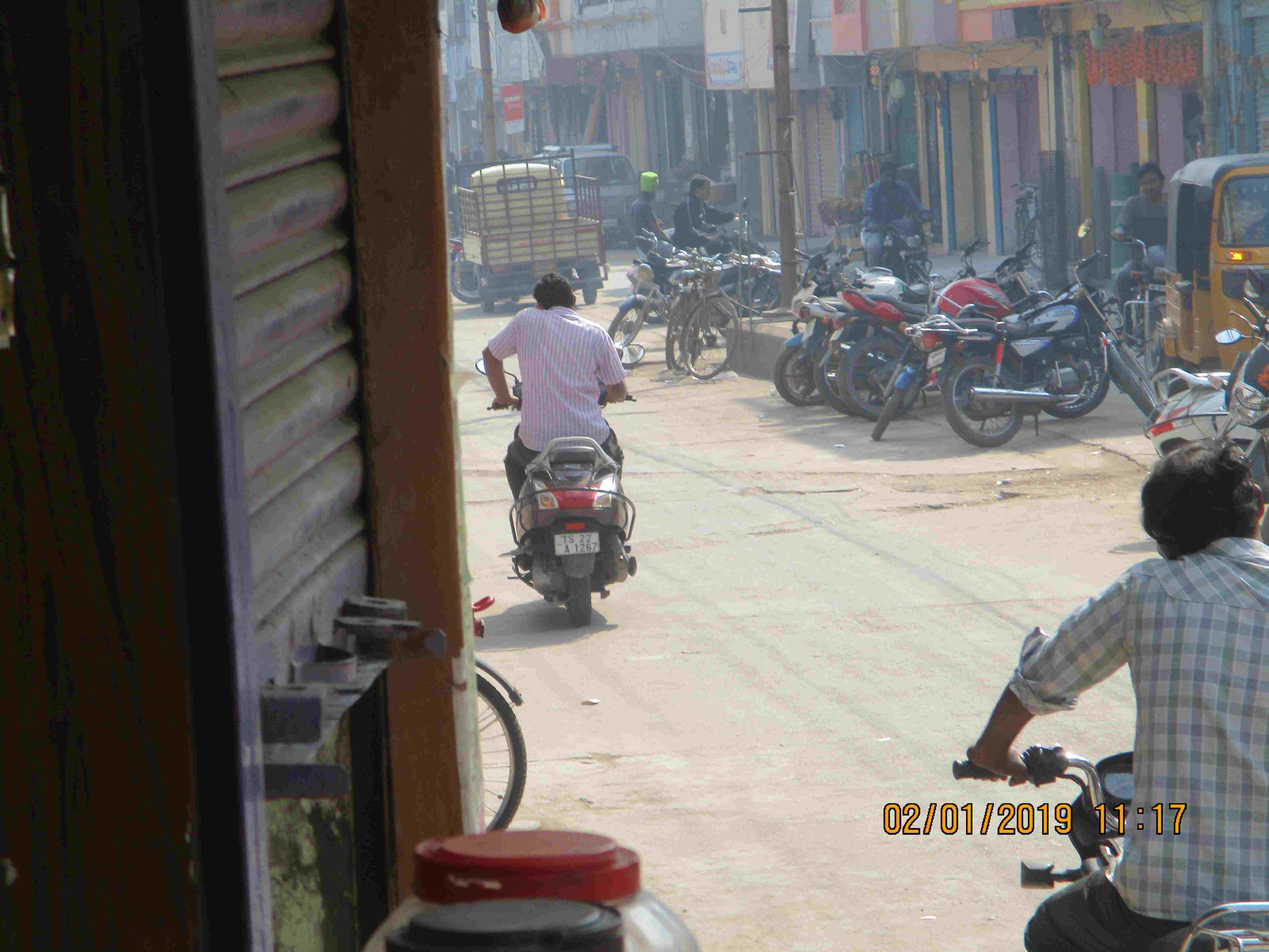plate: (541, 521, 606, 567)
